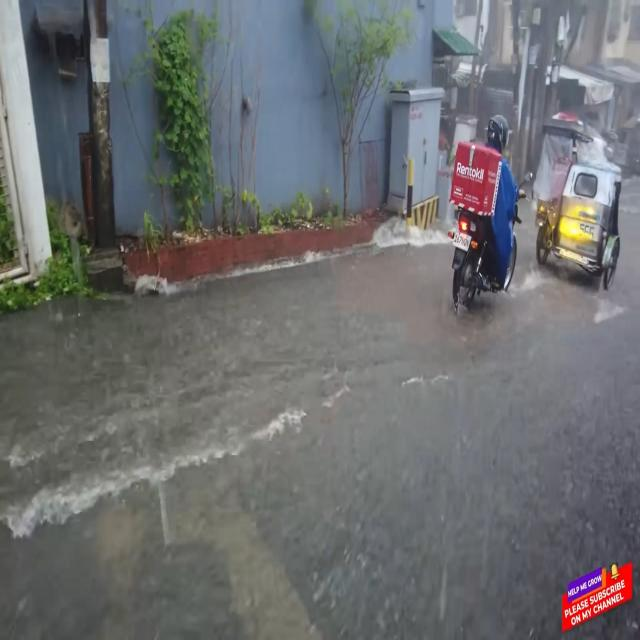full: (484, 106, 516, 166)
